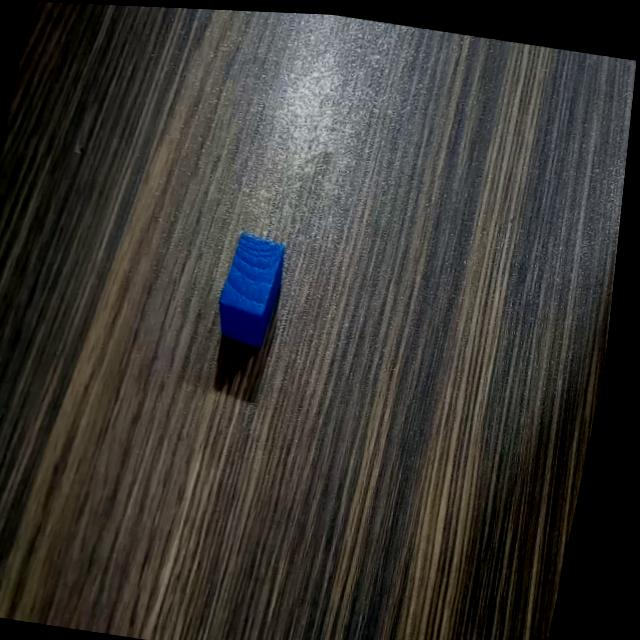cube: (214, 223, 299, 351)
